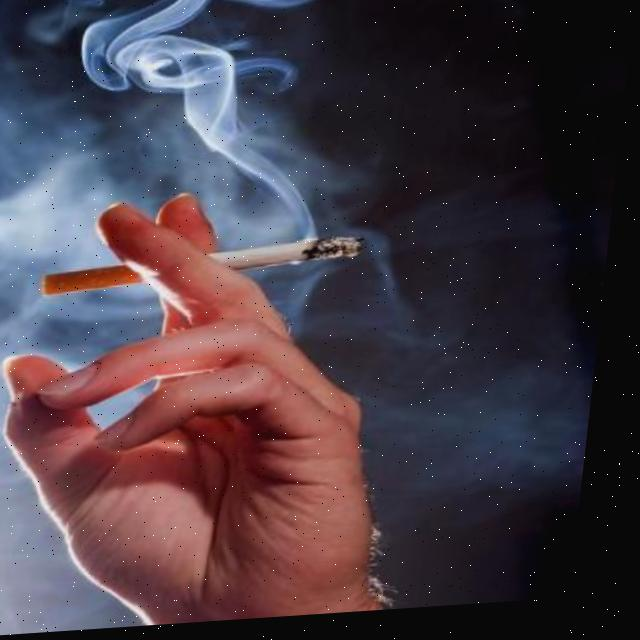cigarette: (45, 238, 373, 299)
